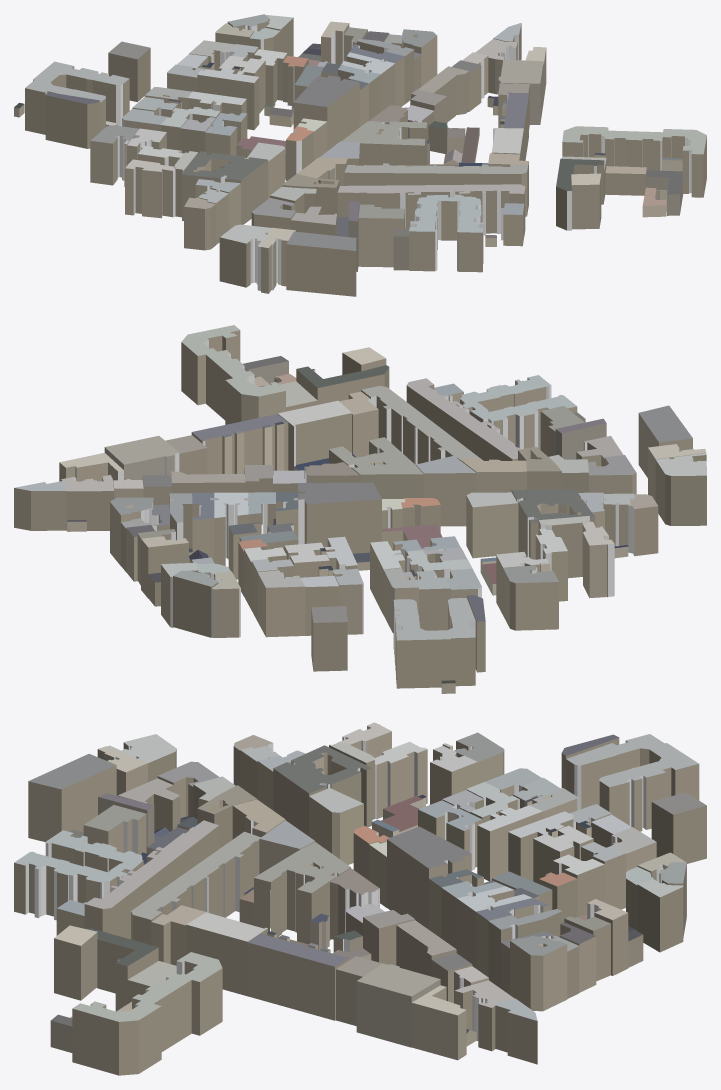
The picture shows the model from 3 angles, top to bottom: view 1: azimuth 30°, elevation 25°; view 2: azimuth 150°, elevation 25°; view 3: azimuth 270°, elevation 25°; orthographic projection. The views are drawn at different scales.
Visible parts, largest first — view 1: tuile; view 2: tuile; view 3: tuile.
Boxes of the visible parts, left/top/right/bottom form: tuile: left=14, top=14, right=706, bottom=296; tuile: left=14, top=325, right=706, bottom=693; tuile: left=14, top=722, right=706, bottom=1075.
Size of the model in its own units: 274 by 34.67 by 277.
